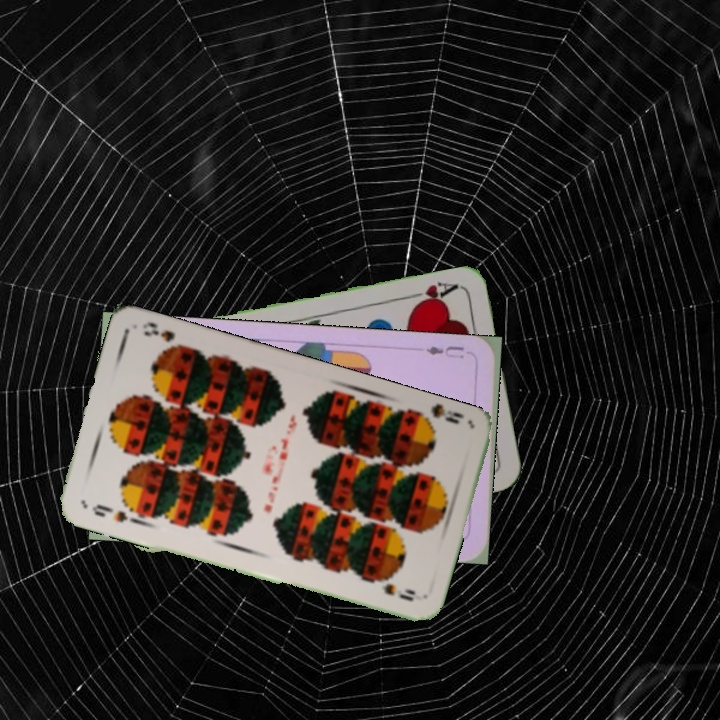EU: (422, 341, 467, 361)
HA: (403, 277, 461, 310)
S9: (411, 401, 467, 429), (87, 500, 130, 526)
